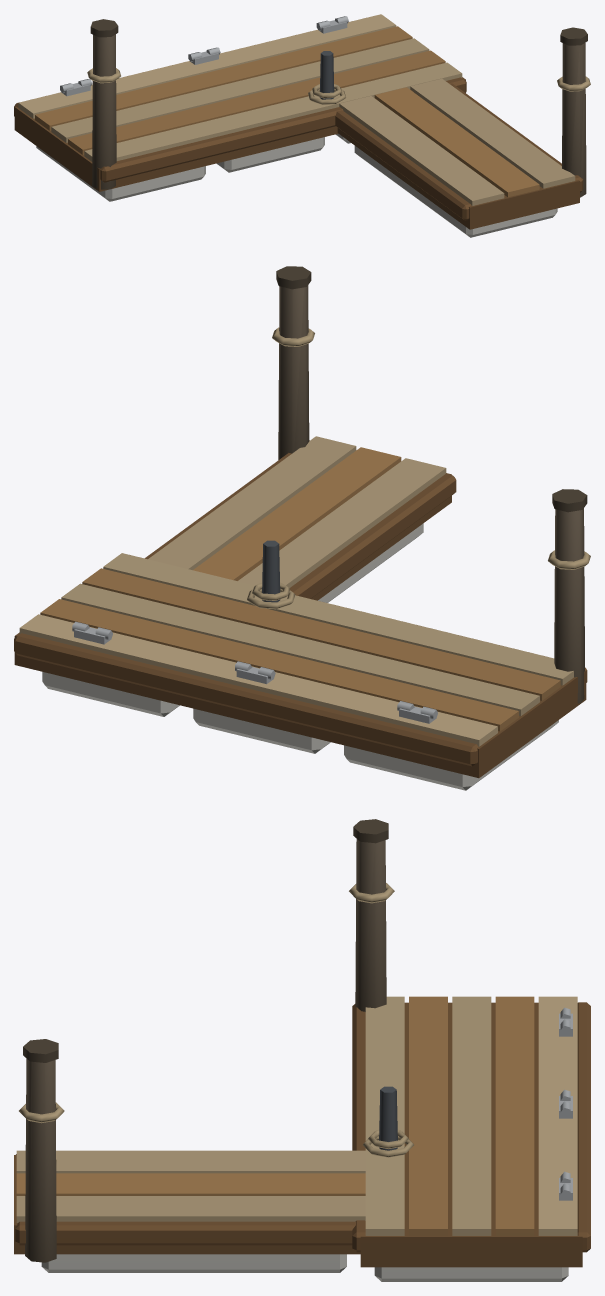
The model's file is marina_dock_module.glb.
3 renders of one model, top to bottom at view 1: azimuth 30°, elevation 25°; view 2: azimuth 150°, elevation 25°; view 3: azimuth 270°, elevation 25°, orthographic. The views are drawn at different scales.
Parts seen in each view (by area): view 1: marina_dock_module; view 2: marina_dock_module; view 3: marina_dock_module.
Part boxes in pixels (left/top/right/bottom): marina_dock_module: left=14, top=14, right=590, bottom=237; marina_dock_module: left=14, top=266, right=590, bottom=790; marina_dock_module: left=14, top=819, right=590, bottom=1281.
Size of the model in its own units: 4.08 by 1.9 by 4.16.
